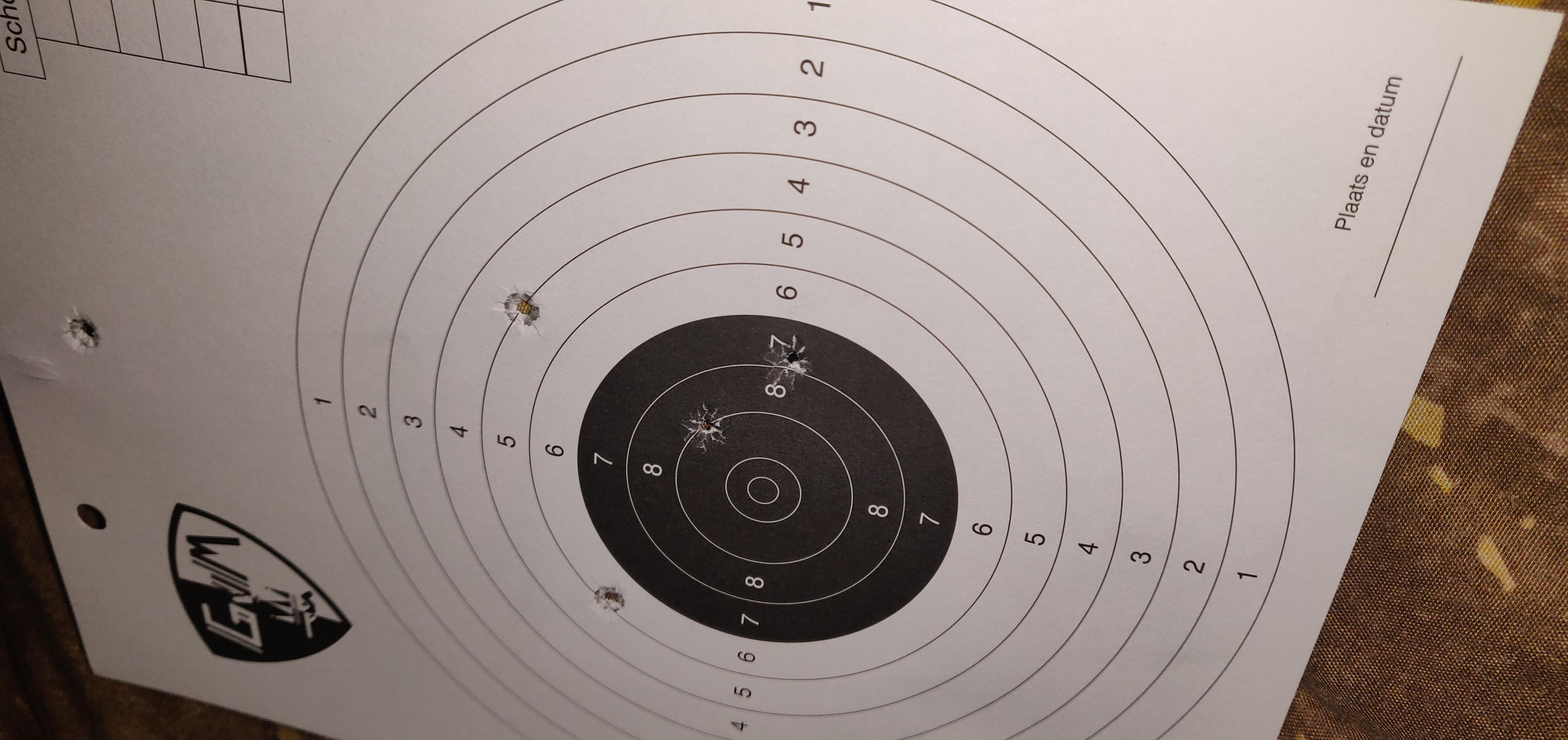hole: (755, 352, 800, 401), (1026, 405, 1069, 453), (841, 290, 883, 337), (1467, 385, 1506, 435), (942, 125, 977, 155)
